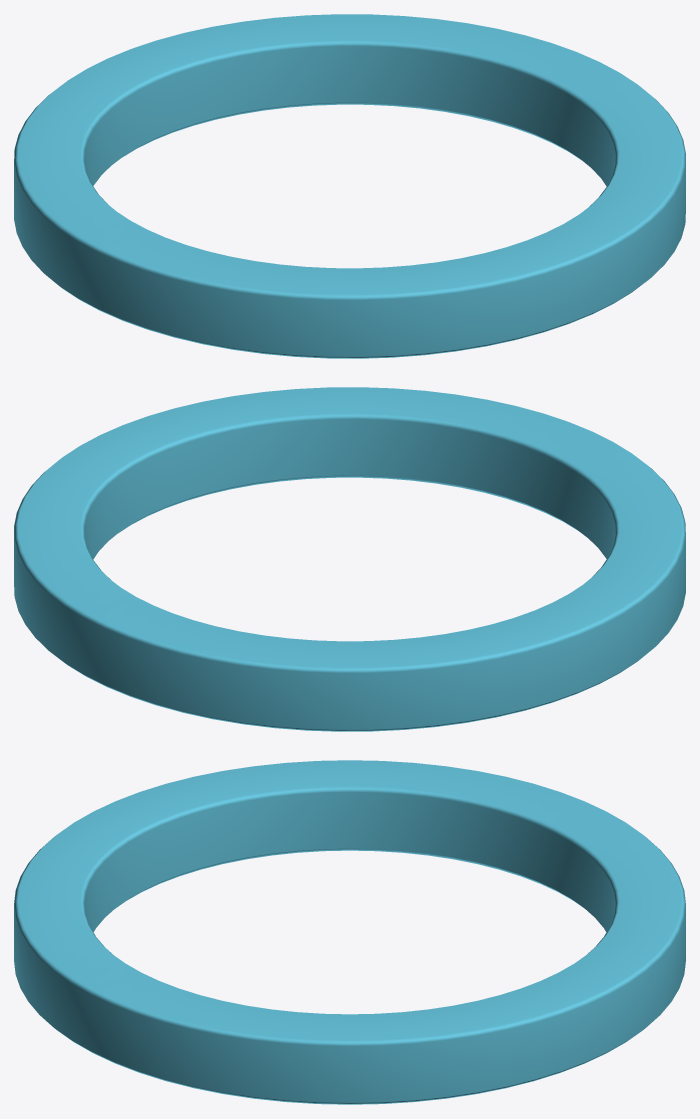
3 views of the same model, one above another, from view 1: azimuth 30°, elevation 25°; view 2: azimuth 150°, elevation 25°; view 3: azimuth 270°, elevation 25° (orthographic).
Parts seen in each view (by area): view 1: seal_body; view 2: seal_body; view 3: seal_body.
Boxes of the visible parts, x1,y1,x2,y2 form: seal_body: (14,14,685,358); seal_body: (14,387,685,731); seal_body: (14,760,685,1104).
Size of the model in its own units: 0.0603 by 0.00635 by 0.0603.
